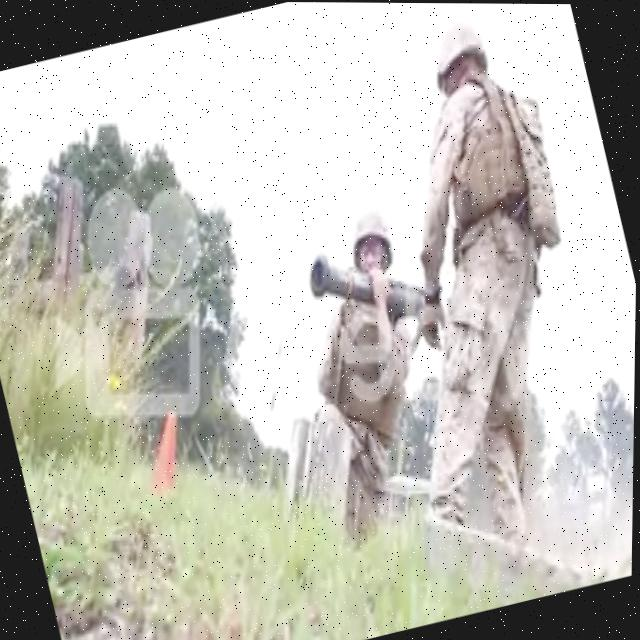rocket: (292, 219, 455, 344)
